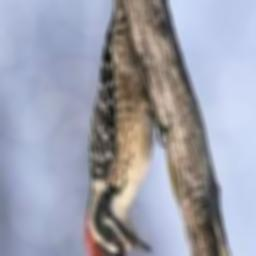Woodpecker: (82, 0, 171, 256)
